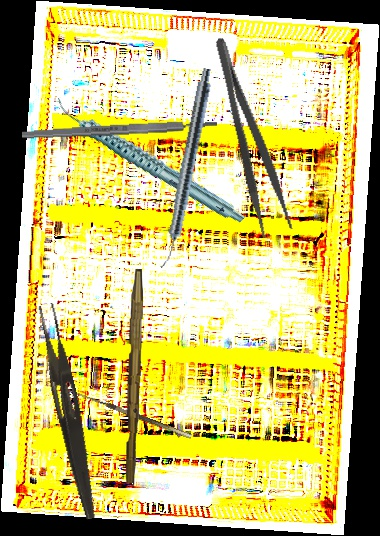Dressing Forceps: (210, 31, 295, 240), (29, 302, 108, 521)
Handpiece: (52, 63, 246, 258), (157, 66, 215, 271)
Hook Surgical: (64, 387, 193, 445)
Scalpel Handle: (123, 268, 144, 484), (21, 118, 218, 141)
